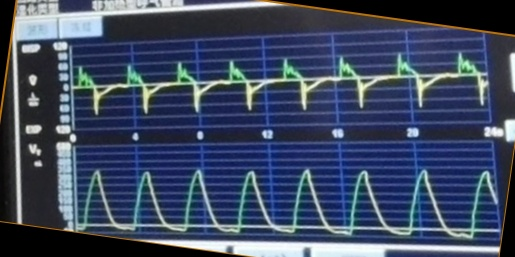Accumulation Flow: (76, 51, 487, 114)
Volume: (79, 165, 497, 240)
